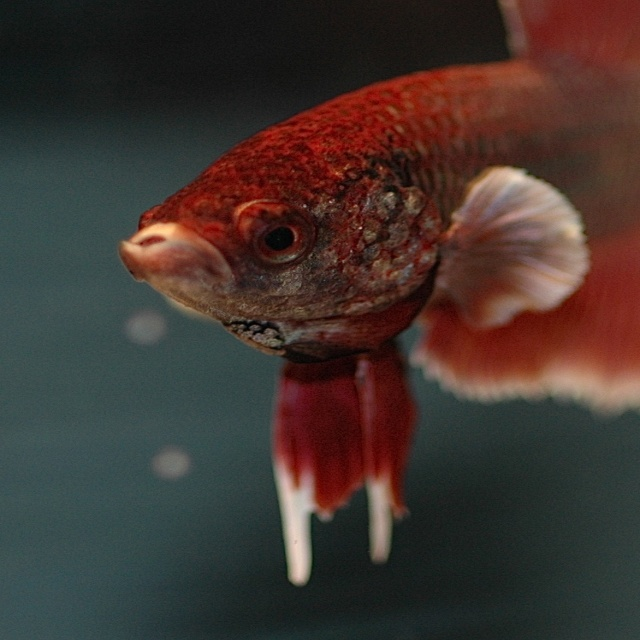Fish: (118, 0, 639, 582)
